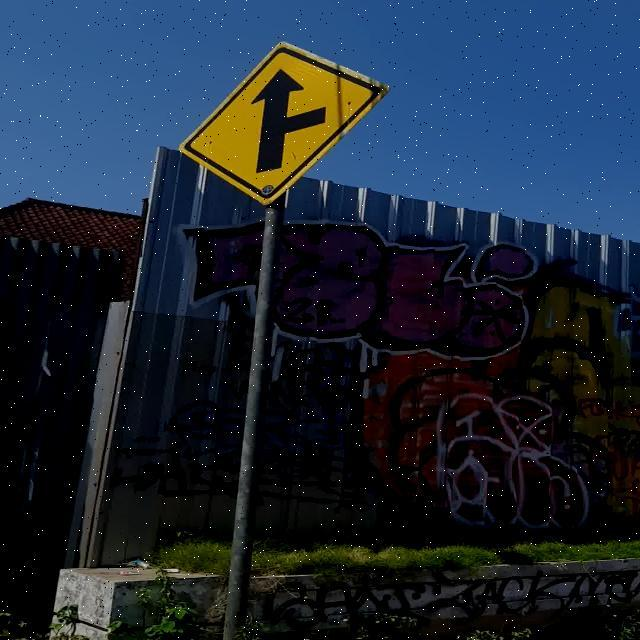Persimpangan 3 Prioritas Kanan: (179, 42, 388, 206)
